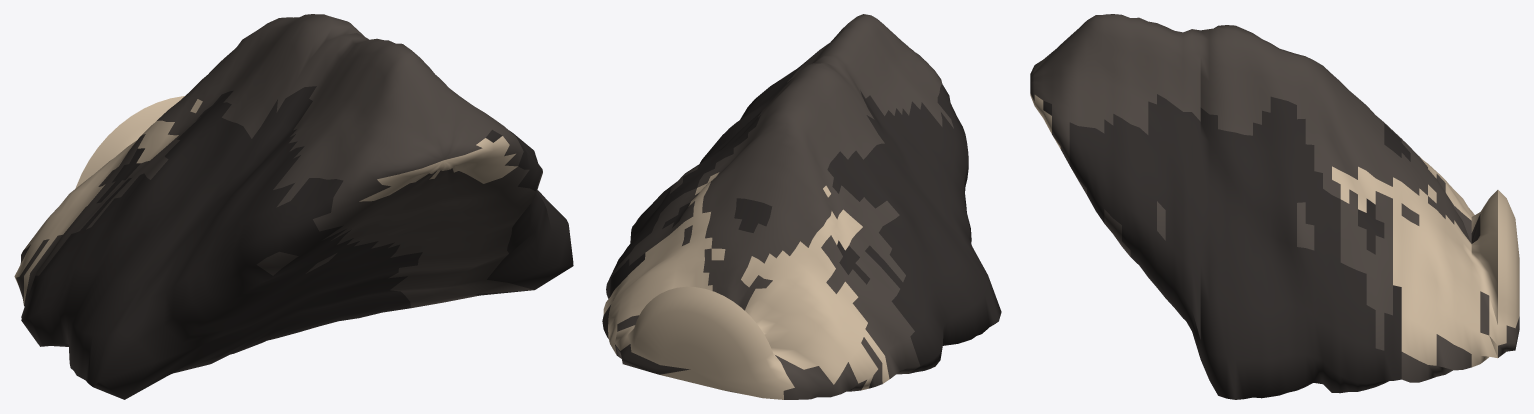
File: demolisher-head.glb
3 renders of one model, left to right at view 1: azimuth 30°, elevation 25°; view 2: azimuth 150°, elevation 25°; view 3: azimuth 270°, elevation 25°, orthographic. The views are drawn at different scales.
Parts seen in each view (by area): view 1: body; view 2: body; view 3: body.
Boxes of the visible parts, bbox=[...] form: body: bbox=[14, 14, 573, 399]; body: bbox=[602, 14, 1001, 399]; body: bbox=[1030, 14, 1519, 399].
Bounding box in the file's own units: 7.91 × 5.19 × 7.88.
